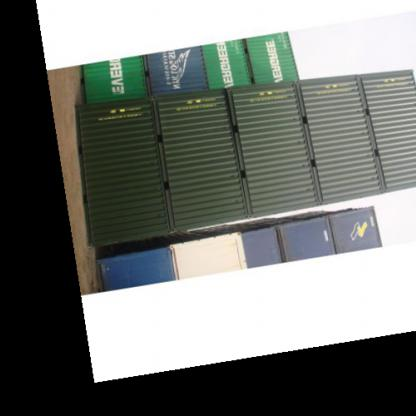Damage: (228, 166, 243, 202), (298, 134, 314, 166)
